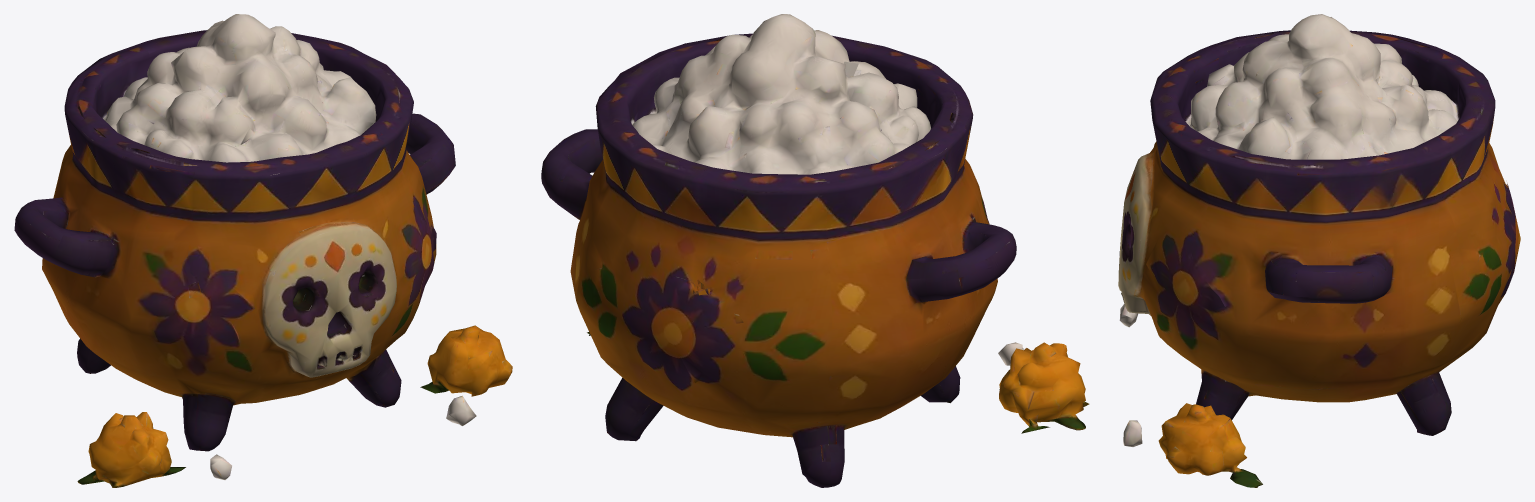
File: sal-optimized.glb
3 renders of one model, left to right at view 1: azimuth 30°, elevation 25°; view 2: azimuth 150°, elevation 25°; view 3: azimuth 270°, elevation 25°, orthographic. The views are drawn at different scales.
Parts seen in each view (by area): view 1: Mesh_0; view 2: Mesh_0; view 3: Mesh_0.
Part boxes in pixels (x1=…): Mesh_0: x1=14, y1=14, x2=512, y2=487; Mesh_0: x1=541, y1=14, x2=1089, y2=487; Mesh_0: x1=1118, y1=14, x2=1520, y2=487.
Bounding box in the file's own units: 1.88 × 1.54 × 1.51.
1 material, 1 textured.
